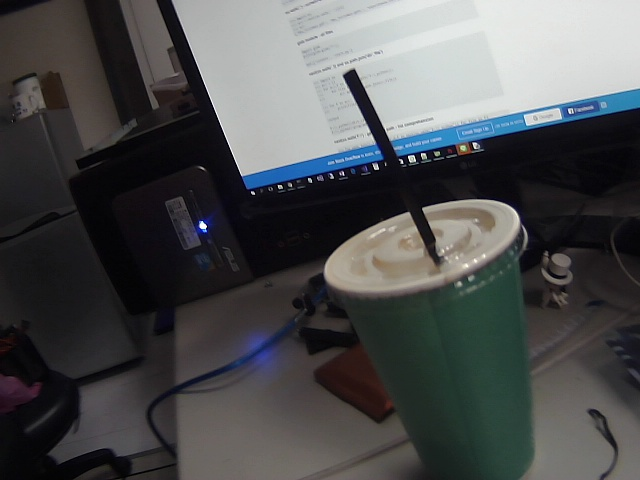beverage: (302, 67, 586, 480)
